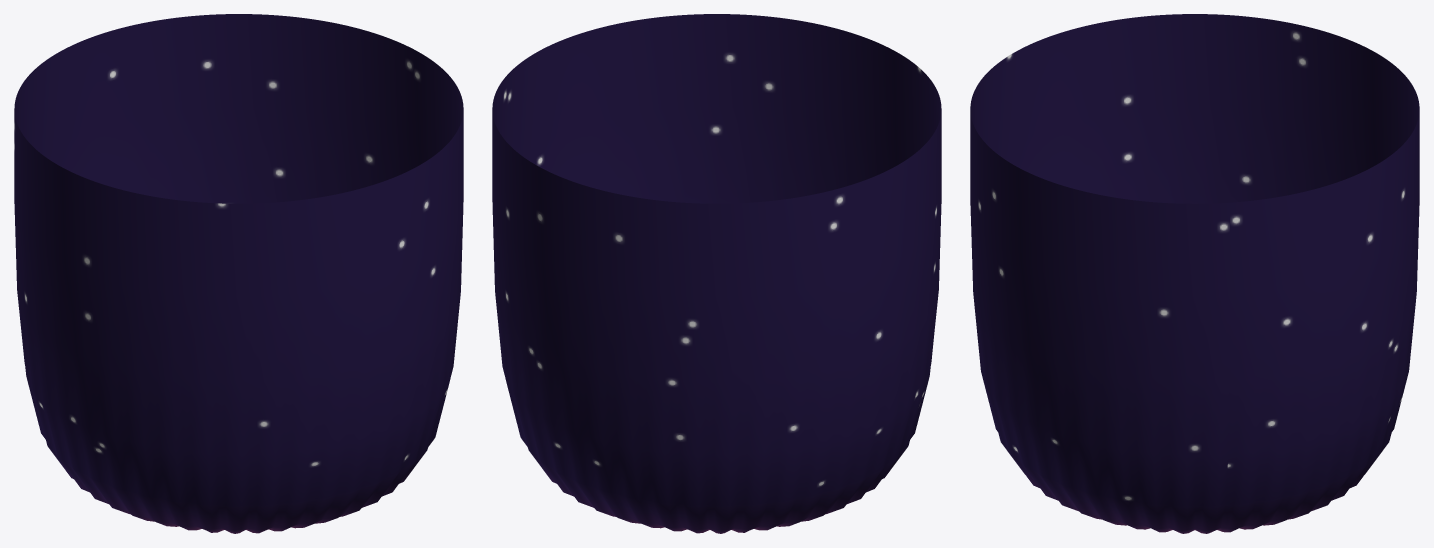
File: sky.fbx
3 views of the same model, side by side, from view 1: azimuth 30°, elevation 25°; view 2: azimuth 150°, elevation 25°; view 3: azimuth 270°, elevation 25° (orthographic).
Visible parts, largest first — view 1: pCylinder8; view 2: pCylinder8; view 3: pCylinder8.
Boxes of the visible parts, x1,y1,x2,y2 form: pCylinder8: (14,14,463,533); pCylinder8: (492,14,941,533); pCylinder8: (970,14,1419,533).
Bounding box in the file's own units: 17.53 × 16 × 17.53.
1 material, 1 textured.
